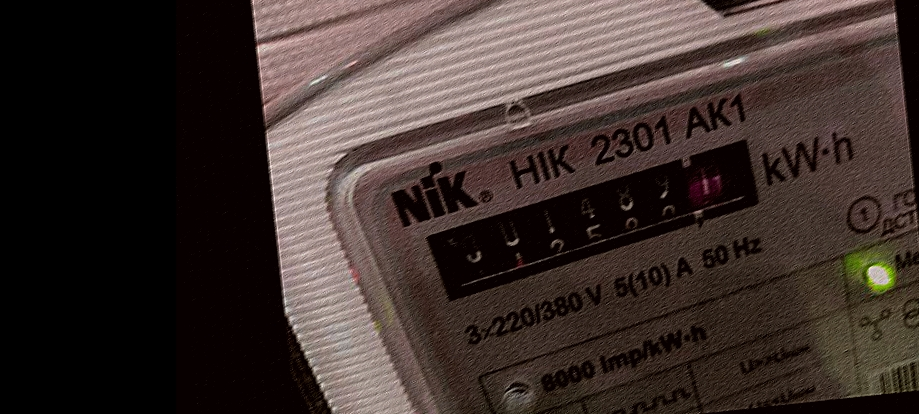0: (494, 210, 524, 249), (458, 228, 485, 266)
1: (692, 158, 715, 197), (537, 202, 560, 235)
4: (574, 188, 599, 221)
8: (613, 176, 638, 214)
9: (651, 166, 674, 200)
screen: (407, 124, 796, 314)
